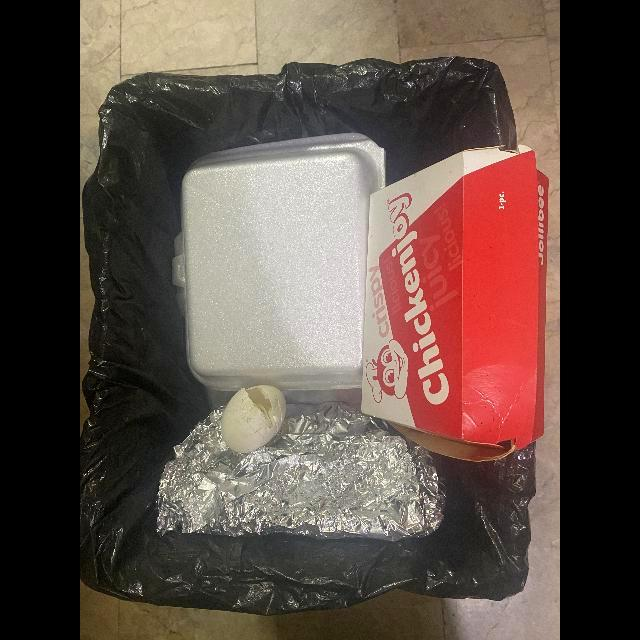aluminum: (157, 401, 444, 539)
cardboard: (360, 146, 549, 464)
